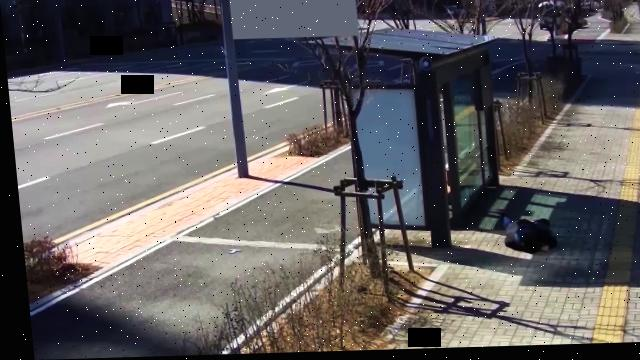fall: (494, 216, 552, 256)
